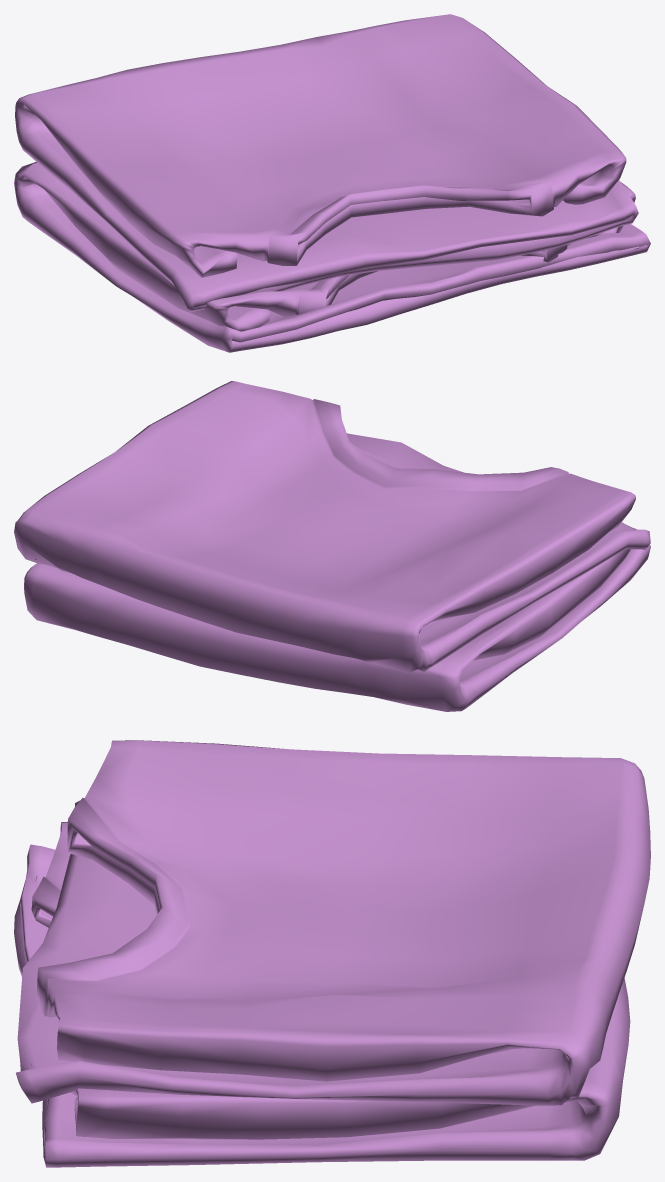
File: Folded_T_Shirt01.fbx
3 views of the same model, one above another, from view 1: azimuth 30°, elevation 25°; view 2: azimuth 150°, elevation 25°; view 3: azimuth 270°, elevation 25° (orthographic). The views are drawn at different scales.
Visible parts, largest first — view 1: Folded_T_Shirt01; view 2: Folded_T_Shirt01; view 3: Folded_T_Shirt01.
Part boxes in pixels (x1,y1,x2,y2): Folded_T_Shirt01: (14,14,650,352); Folded_T_Shirt01: (14,381,650,711); Folded_T_Shirt01: (14,740,650,1167).
Bounding box in the file's own units: 38.34 × 8.12 × 33.9.
